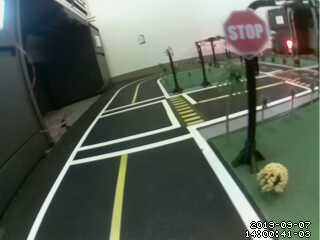Stop_Sign: (221, 6, 277, 63)
